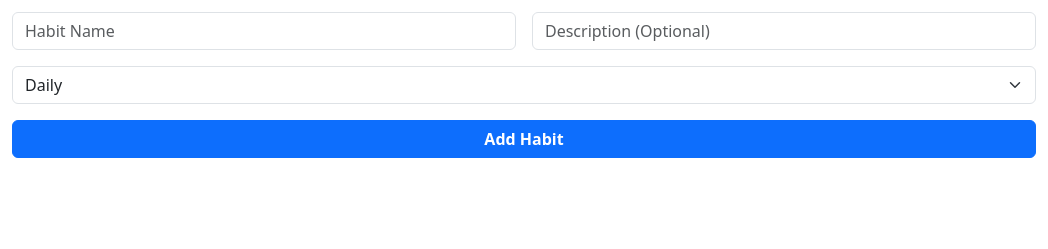
Test: HabitForm › shows generic error if backend error has no message
The width and height of the screenshot is (1048, 249).
Type "Read" into the field with placeholder "Habit Name" at (264, 31), box [12,12,516,50]
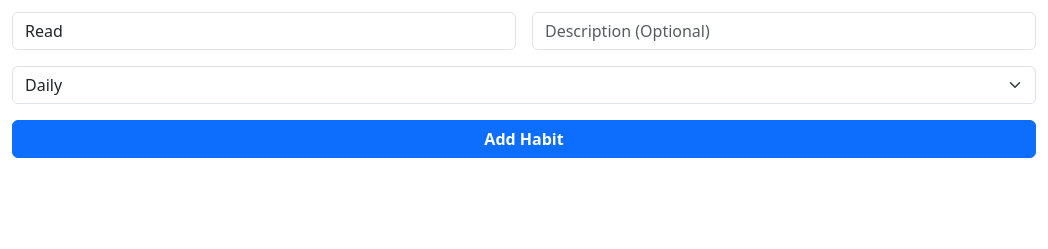
Click the button "Add Habit" at (524, 139), box [12,120,1036,158]
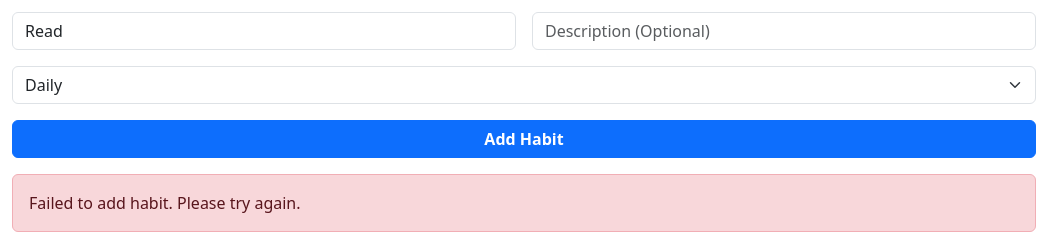
Now the text "Failed to add habit. Please try again." is shown, box [12,174,1036,232]
